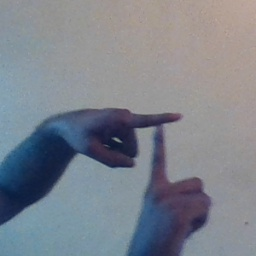T: (112, 98, 203, 213)
